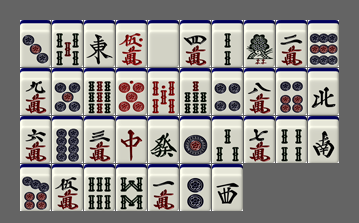0m: (116, 20, 147, 67)
0p: (116, 68, 147, 115)
0s: (148, 68, 179, 115)
1m: (148, 164, 179, 211)
1p: (180, 116, 211, 163)
1s: (244, 20, 275, 67)
1z: (84, 20, 115, 67)
2m: (276, 20, 307, 67)
2p: (180, 164, 211, 211)
2s: (212, 20, 243, 67)
2z: (308, 116, 339, 163)
3m: (84, 116, 115, 163)
3p: (20, 20, 51, 67)
3s: (212, 116, 243, 163)
3z: (212, 164, 243, 211)
4m: (180, 20, 211, 67)
4p: (212, 68, 243, 115)
4s: (276, 116, 307, 163)
4z: (308, 68, 339, 115)
5m: (52, 164, 83, 211)
5p: (52, 68, 83, 115)
5s: (52, 20, 83, 67)
5z: (148, 20, 179, 67)
6m: (20, 116, 51, 163)
6p: (276, 68, 307, 115)
6s: (84, 164, 115, 211)
6z: (148, 116, 179, 163)
7m: (244, 116, 275, 163)
7p: (20, 164, 51, 211)
7s: (180, 68, 211, 115)
7z: (116, 116, 147, 163)
8m: (244, 68, 275, 115)
8p: (52, 116, 83, 163)
8s: (116, 164, 147, 211)
9m: (20, 68, 51, 115)
9p: (308, 20, 339, 67)
9s: (84, 68, 115, 115)
